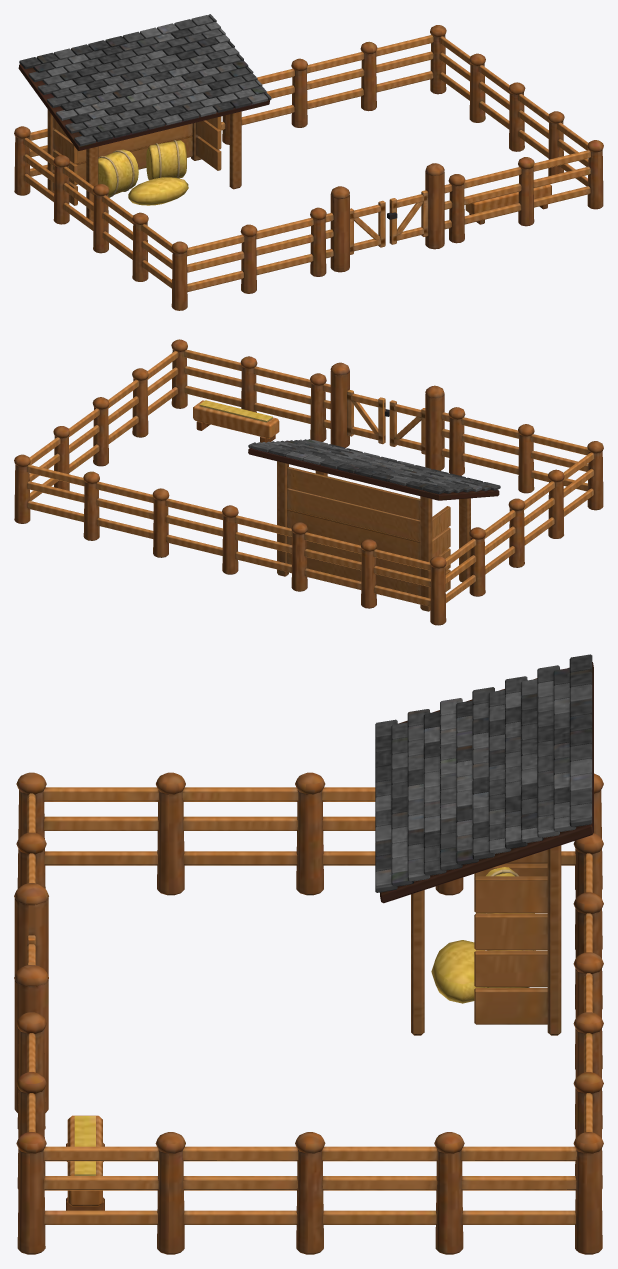
The model's file is dorper_fold.glb.
3 views of the same model, one above another, from view 1: azimuth 30°, elevation 25°; view 2: azimuth 150°, elevation 25°; view 3: azimuth 270°, elevation 25° (orthographic). The views are drawn at different scales.
Visible parts, largest first — view 1: dorper_fold, gate1, gate0; view 2: dorper_fold, gate1, gate0; view 3: dorper_fold.
Boxes of the visible parts, bbox=[...] form: dorper_fold: bbox=[14, 14, 603, 310]; gate1: bbox=[387, 190, 428, 244]; gate0: bbox=[350, 200, 385, 254]; dorper_fold: bbox=[14, 339, 603, 625]; gate1: bbox=[347, 389, 389, 444]; gate0: bbox=[389, 400, 425, 454]; dorper_fold: bbox=[14, 654, 603, 1254].
Bounding box in the file's own units: 3 × 0.9343 × 2.01.
Materials: 1 (1 with a texture image).
